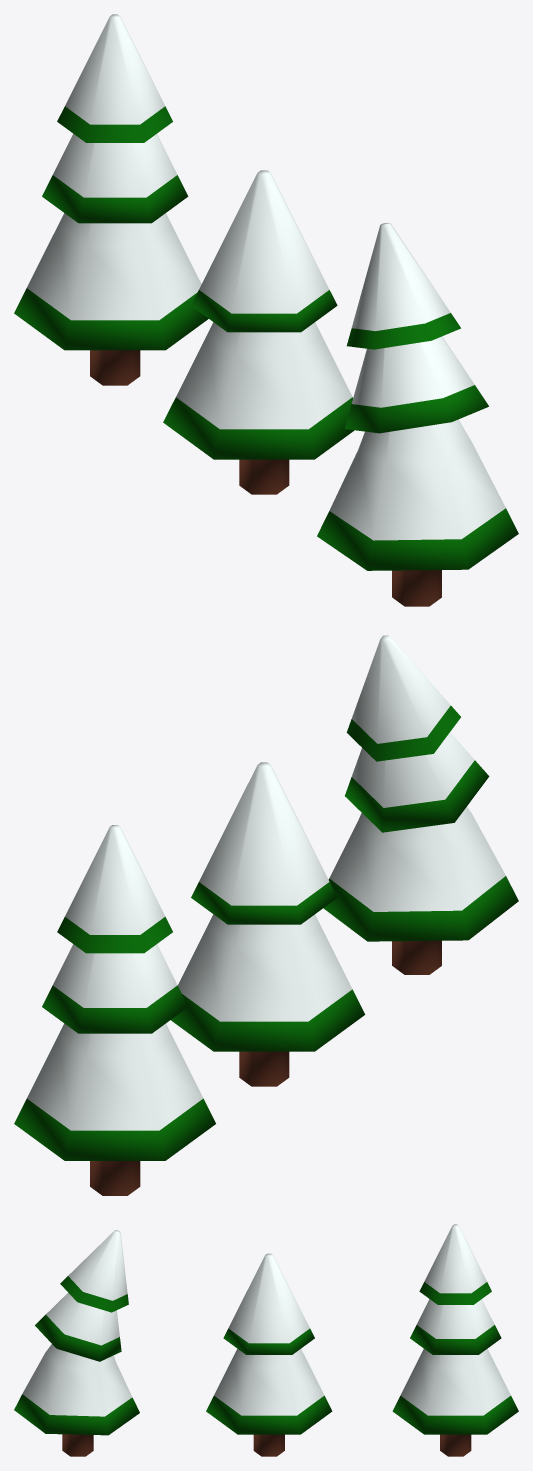
File: elochki)))).fbx
3 renders of one model, top to bottom at view 1: azimuth 30°, elevation 25°; view 2: azimuth 150°, elevation 25°; view 3: azimuth 270°, elevation 25°, orthographic. The views are drawn at different scales.
Parts seen in each view (by area): view 1: Cylinder.007, Cylinder.005, Cylinder.002; view 2: Cylinder.005, Cylinder.007, Cylinder.002; view 3: Cylinder.005, Cylinder.007, Cylinder.002.
Part boxes in pixels (x1,y1,x2,y2): Cylinder.007: (317, 222, 518, 606); Cylinder.005: (14, 14, 208, 385); Cylinder.002: (163, 170, 354, 494); Cylinder.005: (14, 825, 215, 1195); Cylinder.007: (323, 635, 518, 974); Cylinder.002: (171, 762, 365, 1086); Cylinder.005: (392, 1224, 518, 1456); Cylinder.007: (14, 1230, 139, 1456); Cylinder.002: (206, 1253, 332, 1456).
Size of the model in its own units: 173 by 393 by 798.
